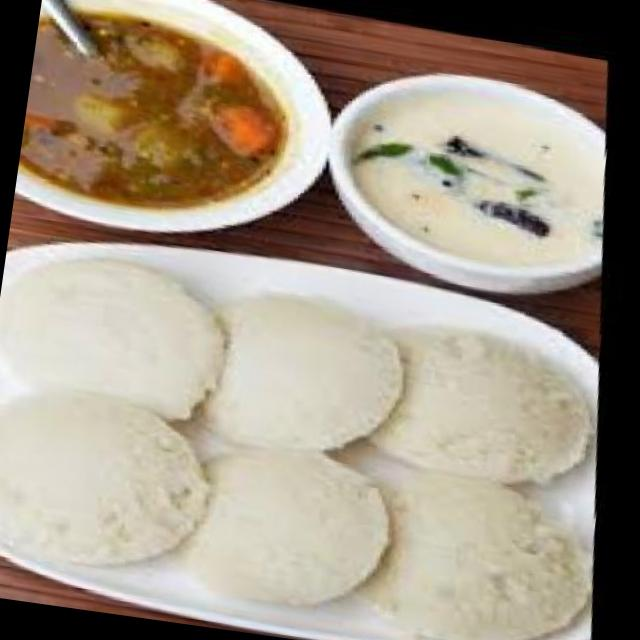idli: (0, 372, 231, 586), (343, 462, 615, 640), (158, 428, 407, 621), (362, 313, 612, 498), (0, 243, 245, 427), (190, 282, 423, 472)
